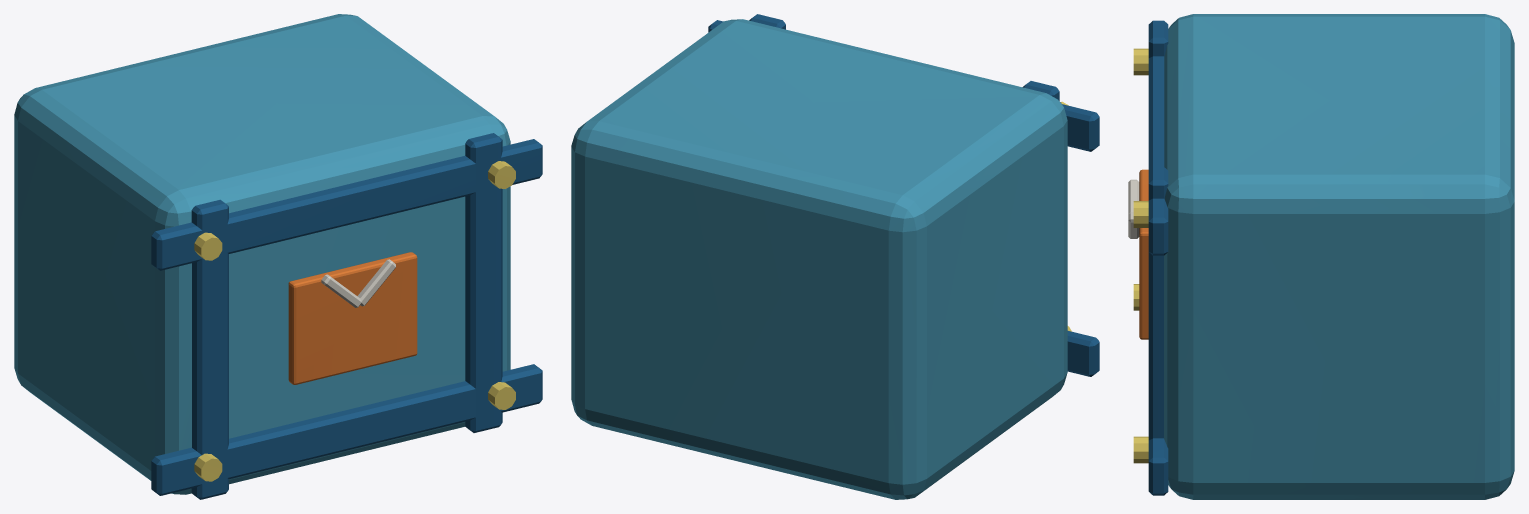
Rendered from glacier_expedition_crate_v1.glb.
3 views of the same model, side by side, from view 1: azimuth 30°, elevation 25°; view 2: azimuth 150°, elevation 25°; view 3: azimuth 270°, elevation 25° (orthographic). The views are drawn at different scales.
Parts seen in each view (by area): view 1: glacier_expedition_crate_v1; view 2: glacier_expedition_crate_v1; view 3: glacier_expedition_crate_v1.
Part boxes in pixels (left/top/right/bottom): glacier_expedition_crate_v1: left=14, top=14, right=542, bottom=499; glacier_expedition_crate_v1: left=571, top=14, right=1099, bottom=499; glacier_expedition_crate_v1: left=1128, top=14, right=1514, bottom=499.
Size of the model in its own units: 1.92 by 1.44 by 1.56.
